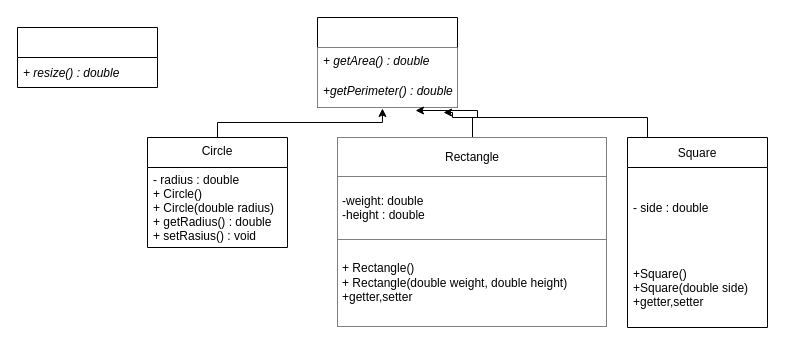
Image size: 785x345. Some labels were removed from this diagram. The shapes that lost their labels are listed below. From the top down, each one's box as (x1, y1, x2, y2) in pixels, then its label:
(16, 26, 158, 88): (I) Resizeable
(316, 16, 458, 108): Shape
